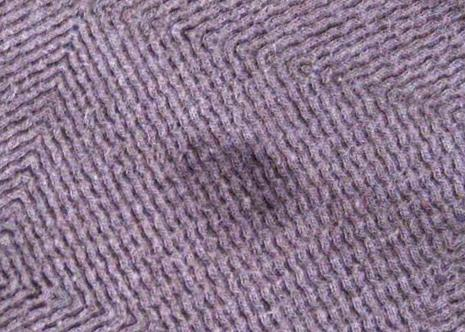stain: (180, 133, 311, 250)
